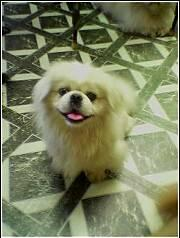dog: (32, 61, 137, 187)
